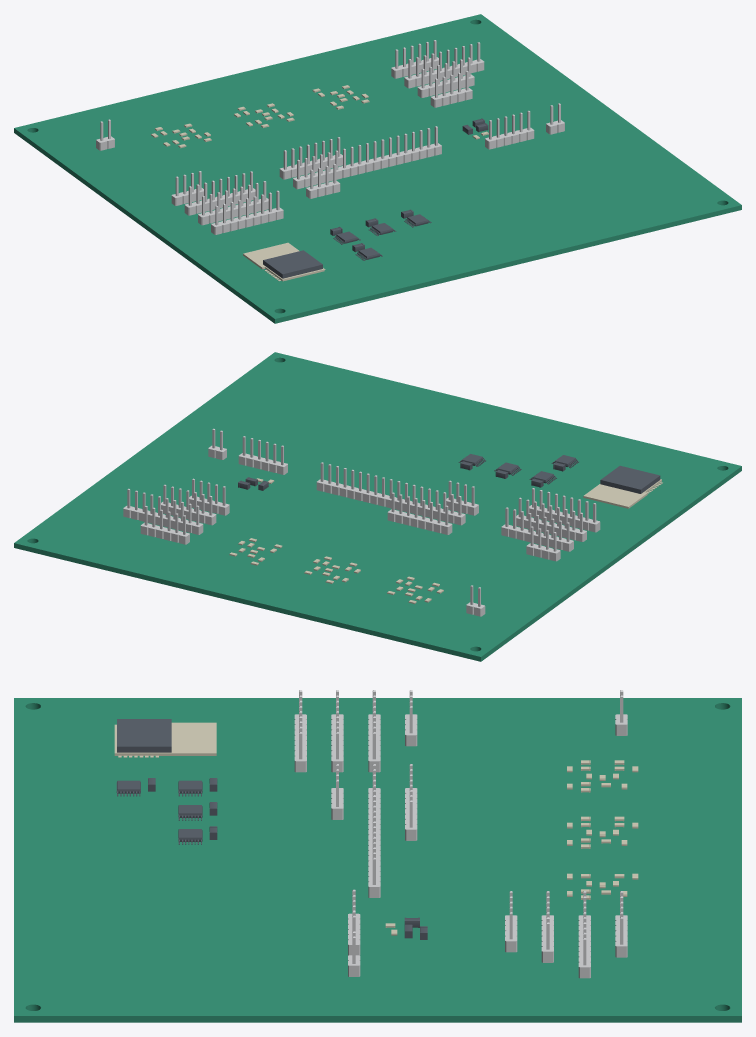
File: controller-carrier.glb
3 renders of one model, top to bottom at view 1: azimuth 30°, elevation 25°; view 2: azimuth 150°, elevation 25°; view 3: azimuth 270°, elevation 25°, orthographic. The views are drawn at different scales.
Visible parts, largest first — view 1: PCB, J80019, U80001, J80017, J80011, J80016, J80015, J80018, J80002, J80012, J80013, J80010 (+2 smaller); view 2: PCB, J80019, U80001, J80011, J80015, J80018, J80017, J80016, J80002, J80010, J80012, J80013 (+2 smaller); view 3: PCB, U80001, J80019, J80011, J80017, J80015, J80016, J80018, J80012, J80010, J80002, J80013.
Boxes of the visible parts, left/top/right/bottom form: PCB: left=14, top=14, right=741, bottom=323; J80019: left=293, top=126, right=441, bottom=189; U80001: left=243, top=242, right=325, bottom=281; J80017: left=211, top=190, right=283, bottom=234; J80011: left=404, top=42, right=484, bottom=88; J80016: left=198, top=181, right=268, bottom=225; J80015: left=184, top=171, right=255, bottom=215; J80018: left=279, top=137, right=342, bottom=179; J80002: left=485, top=110, right=534, bottom=149; J80012: left=417, top=57, right=474, bottom=97; J80013: left=430, top=71, right=472, bottom=107; J80010: left=391, top=40, right=438, bottom=78; PCB: left=14, top=352, right=741, bottom=661; J80019: left=316, top=462, right=465, bottom=525; U80001: left=583, top=465, right=662, bottom=508; J80011: left=123, top=488, right=203, bottom=534; J80015: left=501, top=507, right=573, bottom=551; J80018: left=387, top=492, right=452, bottom=534; J80017: left=529, top=488, right=600, bottom=532; J80016: left=516, top=497, right=586, bottom=541; J80002: left=238, top=436, right=287, bottom=474; J80010: left=140, top=506, right=189, bottom=544; J80012: left=161, top=484, right=216, bottom=525; J80013: left=189, top=478, right=229, bottom=515; PCB: left=14, top=698, right=741, bottom=1022; U80001: left=114, top=719, right=216, bottom=757; J80019: left=368, top=764, right=380, bottom=897; J80011: left=578, top=891, right=590, bottom=978; J80017: left=294, top=690, right=306, bottom=772; J80015: left=368, top=690, right=380, bottom=772; J80016: left=331, top=690, right=343, bottom=772; J80018: left=405, top=764, right=417, bottom=840; J80012: left=541, top=891, right=553, bottom=962; J80010: left=615, top=891, right=627, bottom=957; J80002: left=348, top=889, right=360, bottom=955; J80013: left=505, top=891, right=517, bottom=952.
Size of the model in its own units: 0.155 by 0.0115 by 0.15.
